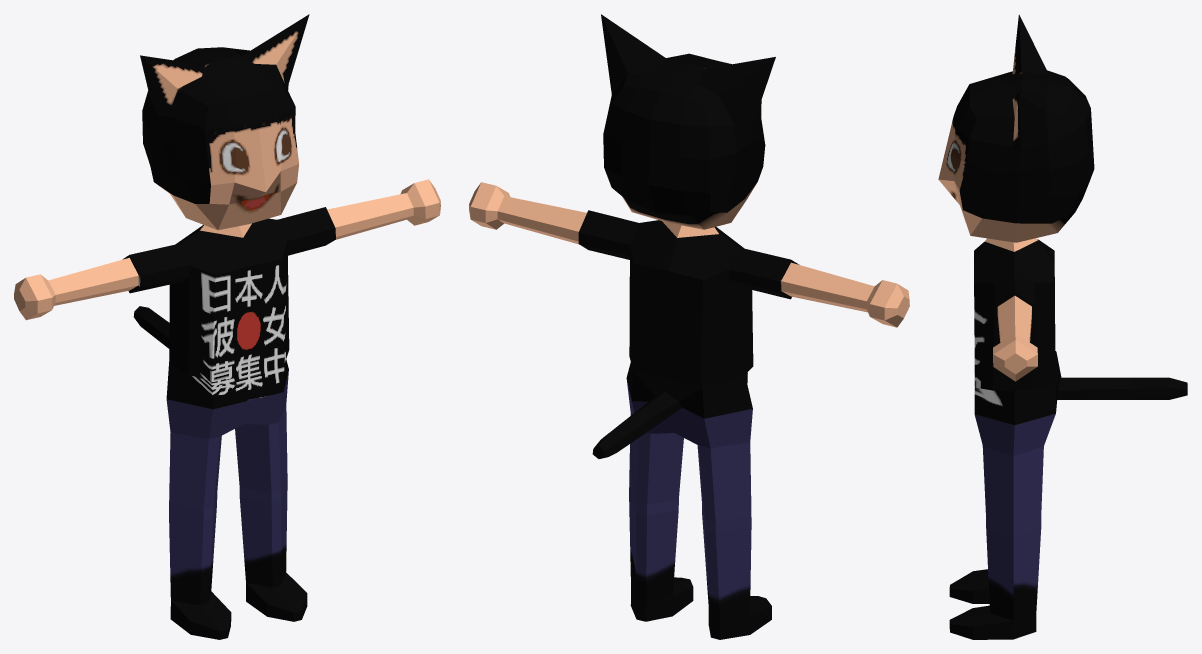
Rendered from ben5.fbx.
3 renders of one model, left to right at view 1: azimuth 30°, elevation 25°; view 2: azimuth 150°, elevation 25°; view 3: azimuth 270°, elevation 25°, orthographic. The views are drawn at different scales.
Visible parts, largest first — view 1: Cube.000; view 2: Cube.000; view 3: Cube.000.
Boxes of the visible parts, x1,y1,x2,y2 form: Cube.000: (14, 14, 440, 639); Cube.000: (469, 14, 909, 639); Cube.000: (938, 14, 1187, 639).
Bounding box in the file's own units: 138 × 180 × 72.98.
2 materials, 2 textured.
